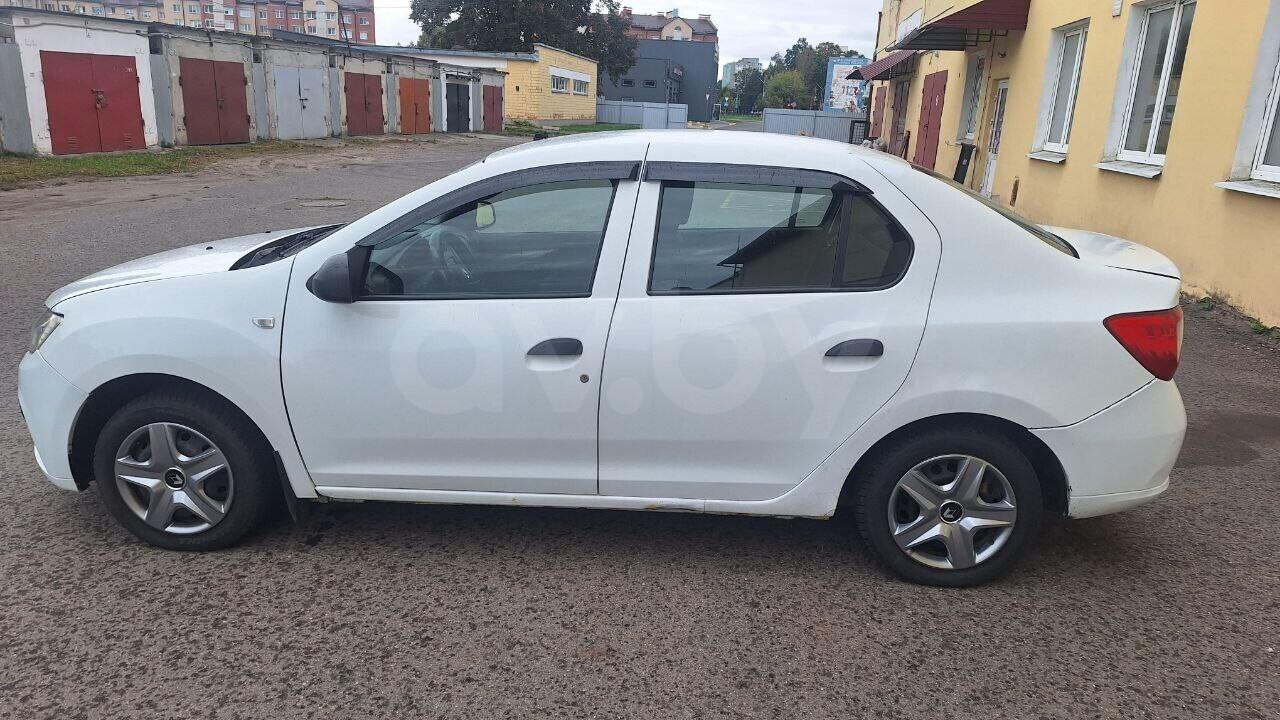Logan_2018: (15, 124, 1199, 588)
